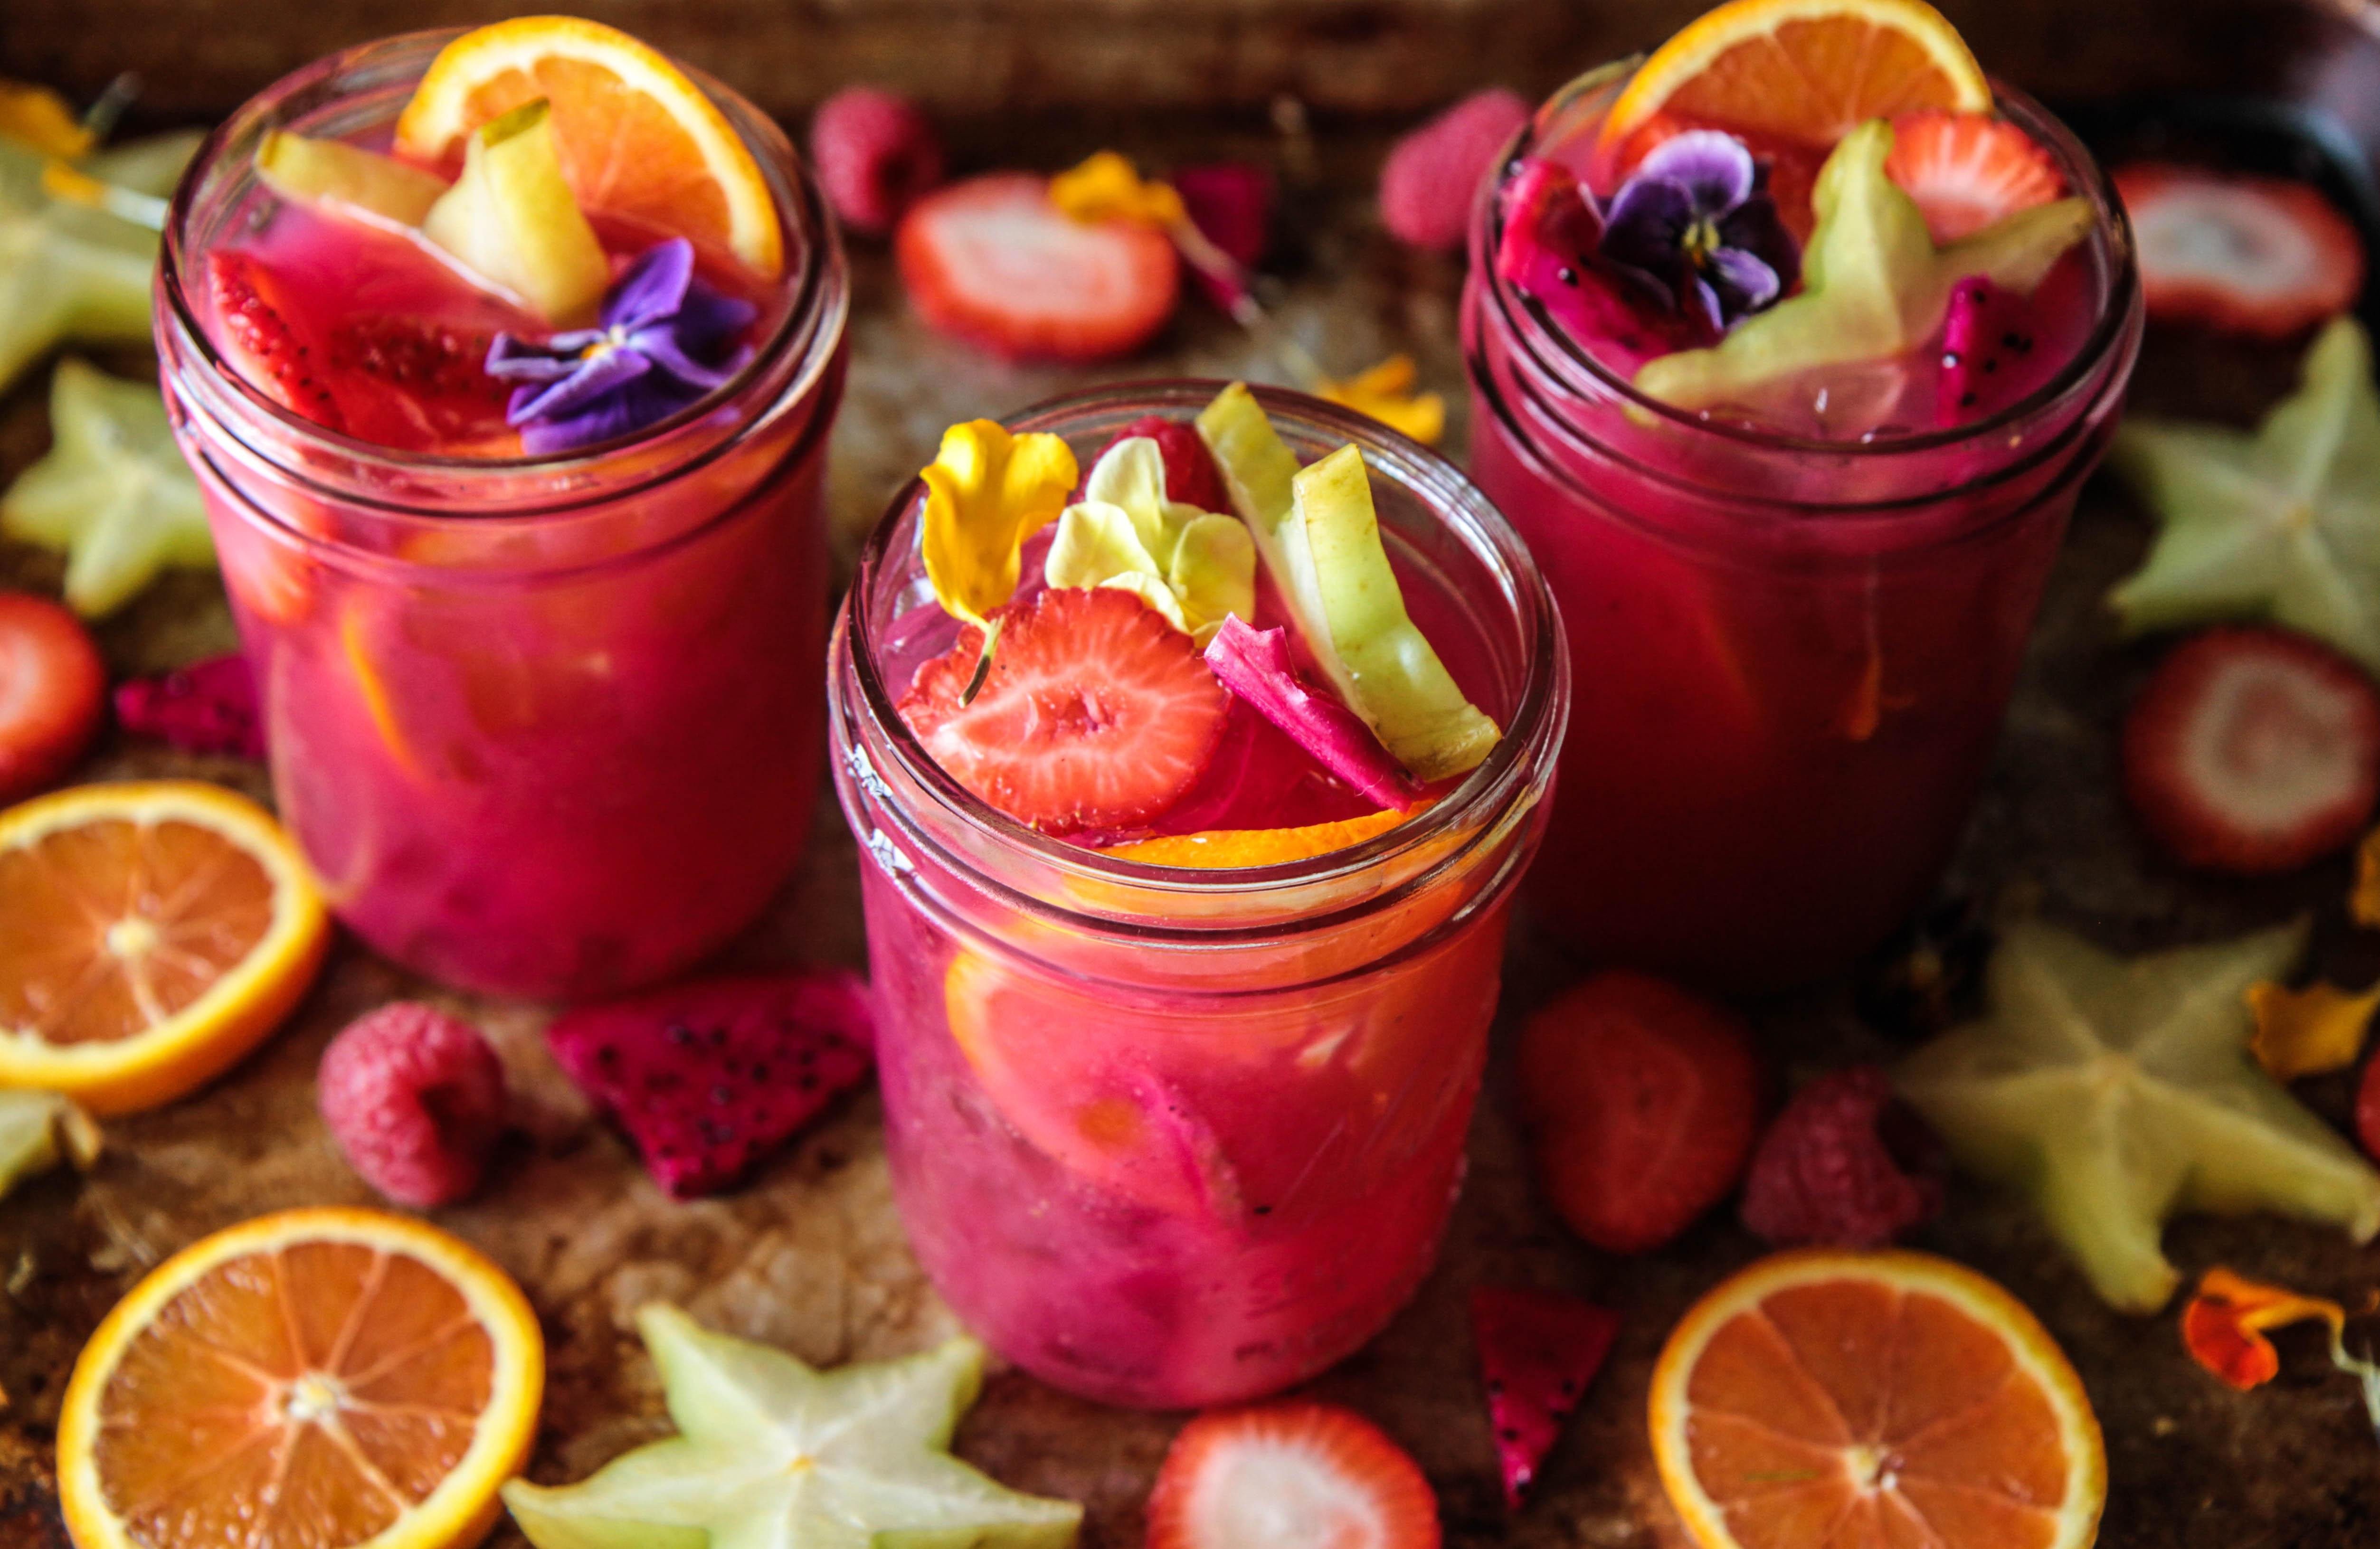apple: (425, 108, 616, 331), (2, 588, 120, 805)
